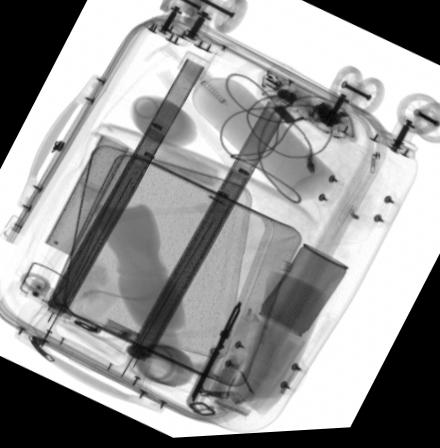Pliers: (186, 303, 239, 407)
